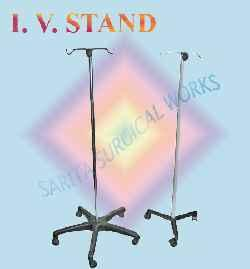Saline Stand: (50, 46, 140, 268), (143, 49, 199, 247)
